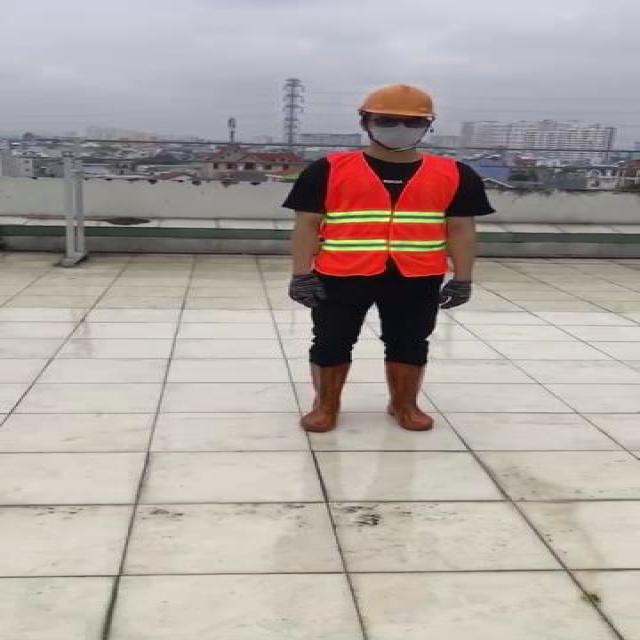boots: (295, 361, 357, 433), (382, 363, 432, 431)
face_mask: (364, 113, 434, 147)
glasses: (362, 114, 433, 130)
hand_glove: (436, 279, 476, 313), (286, 277, 326, 309)
head_helmet: (358, 82, 440, 118)
person: (274, 81, 496, 436)
vest: (313, 152, 464, 277)
